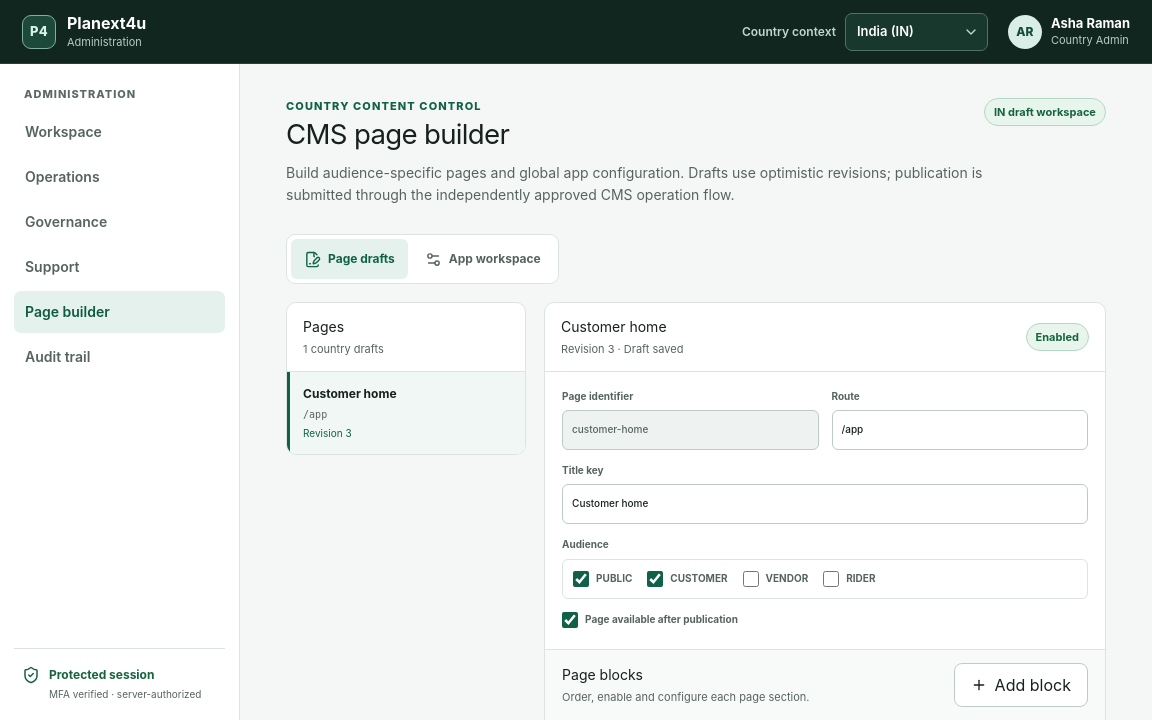
Scenario: administrator application › renders and saves the server-authorized CMS page builder
Expected: the heading "CMS page builder" is shown, [286, 118, 509, 151]
Clear the field labelled "Title key" at [825, 504], box [562, 484, 1088, 524]
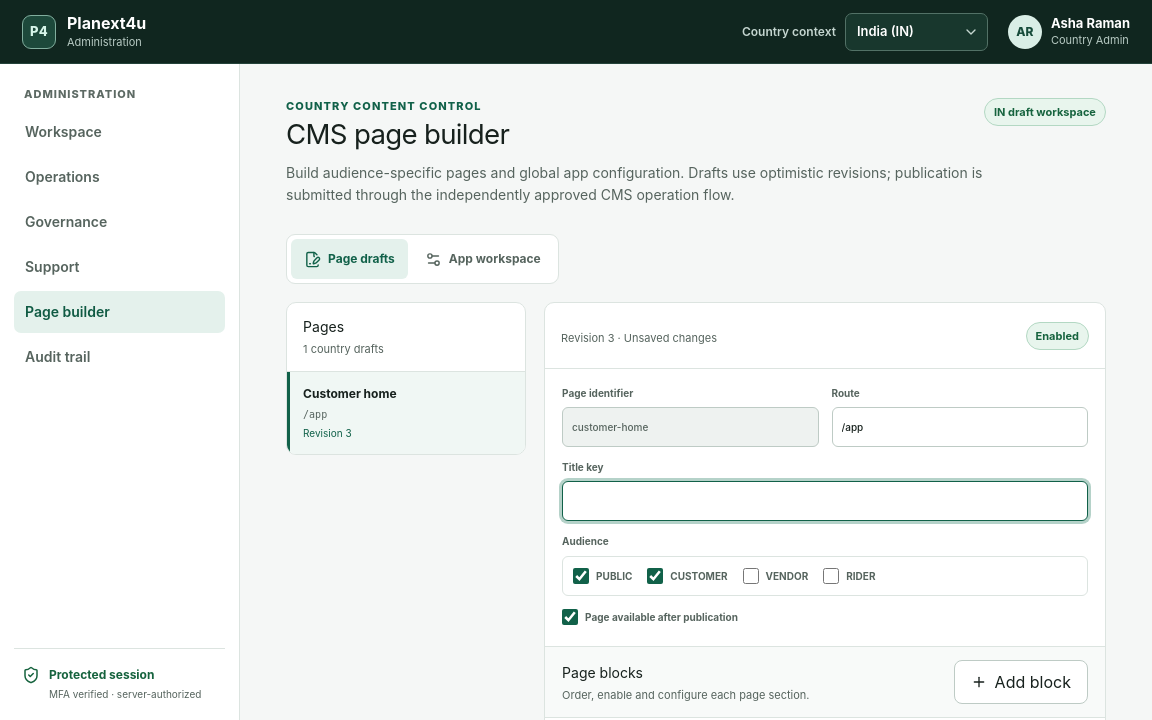
Type "Customer storefront" into the field labelled "Title key" at [825, 501], box [562, 481, 1088, 521]
(page scrolled)
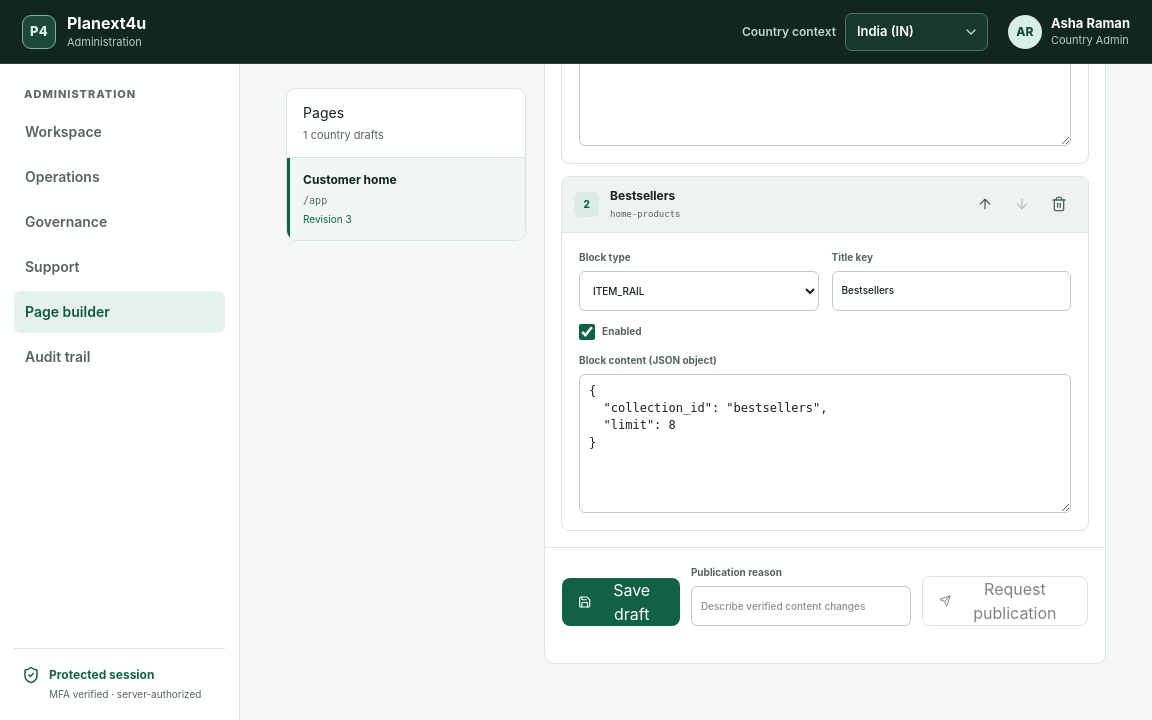
Click the button "Save draft" at [621, 602], box [562, 578, 680, 626]
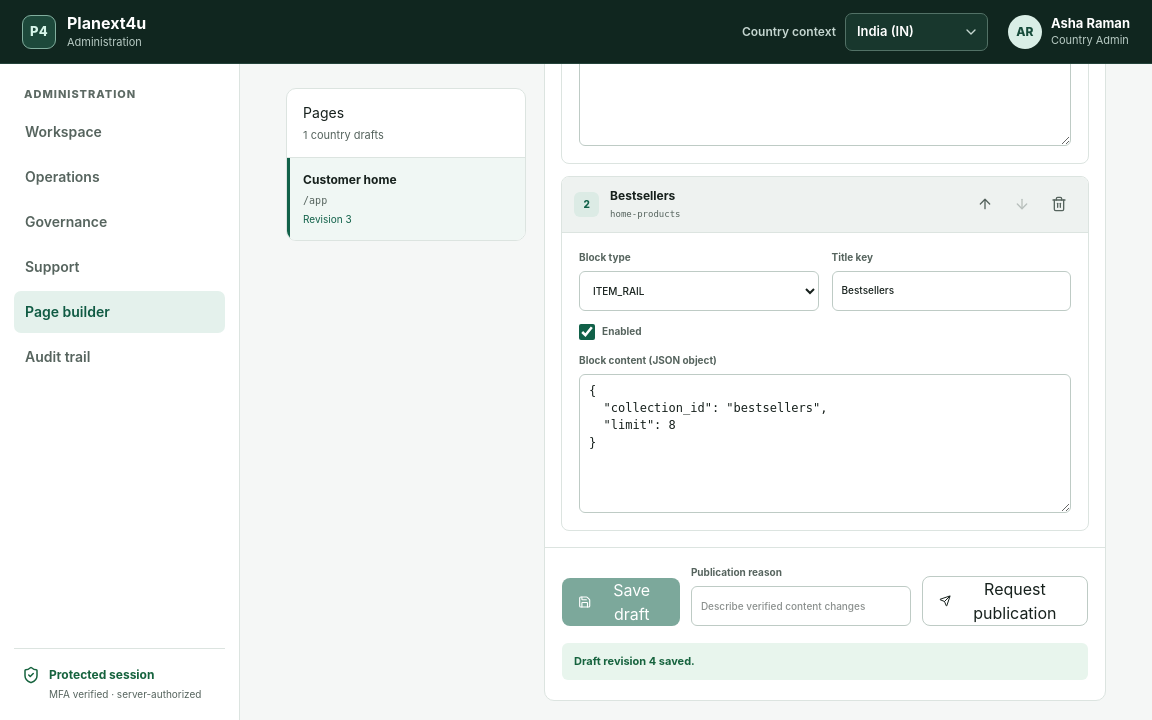
Now the text "Draft revision 4 saved." is shown, box [562, 643, 1088, 680]
